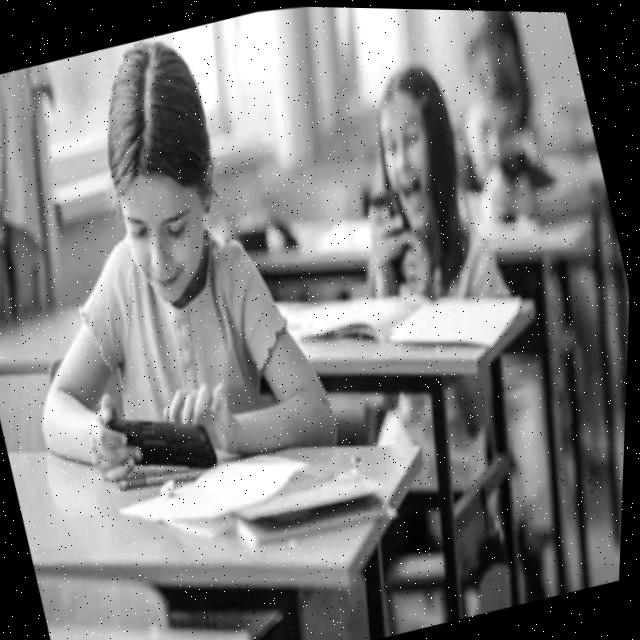phone: (97, 388, 232, 493), (353, 175, 432, 276), (496, 143, 535, 182)
